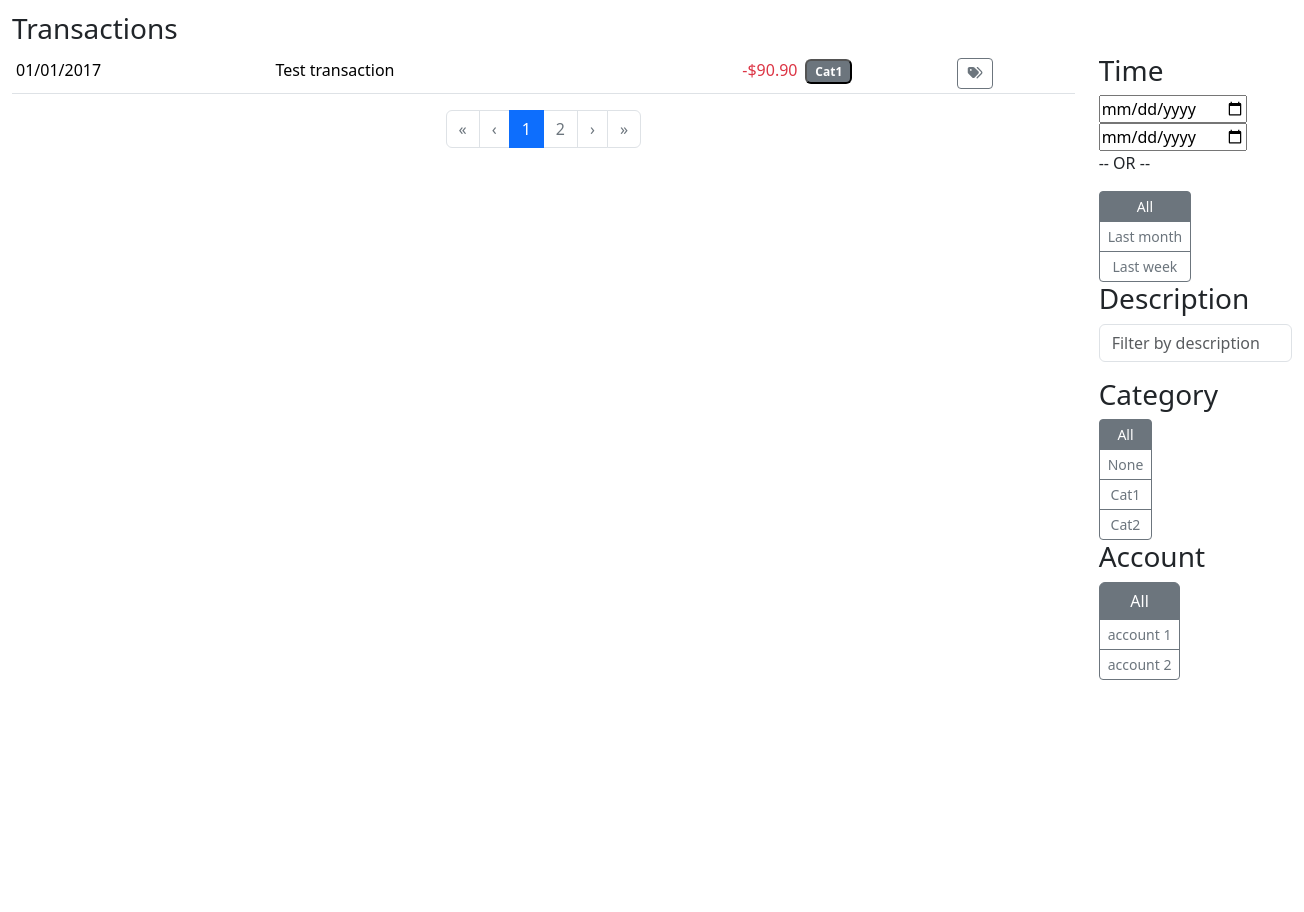
Test: should close dropdown on blur without saving
Click the button "Cat1" in the row of "01/01/2017".
click(829, 72)  # box x1=806 y1=59 x2=852 y2=84
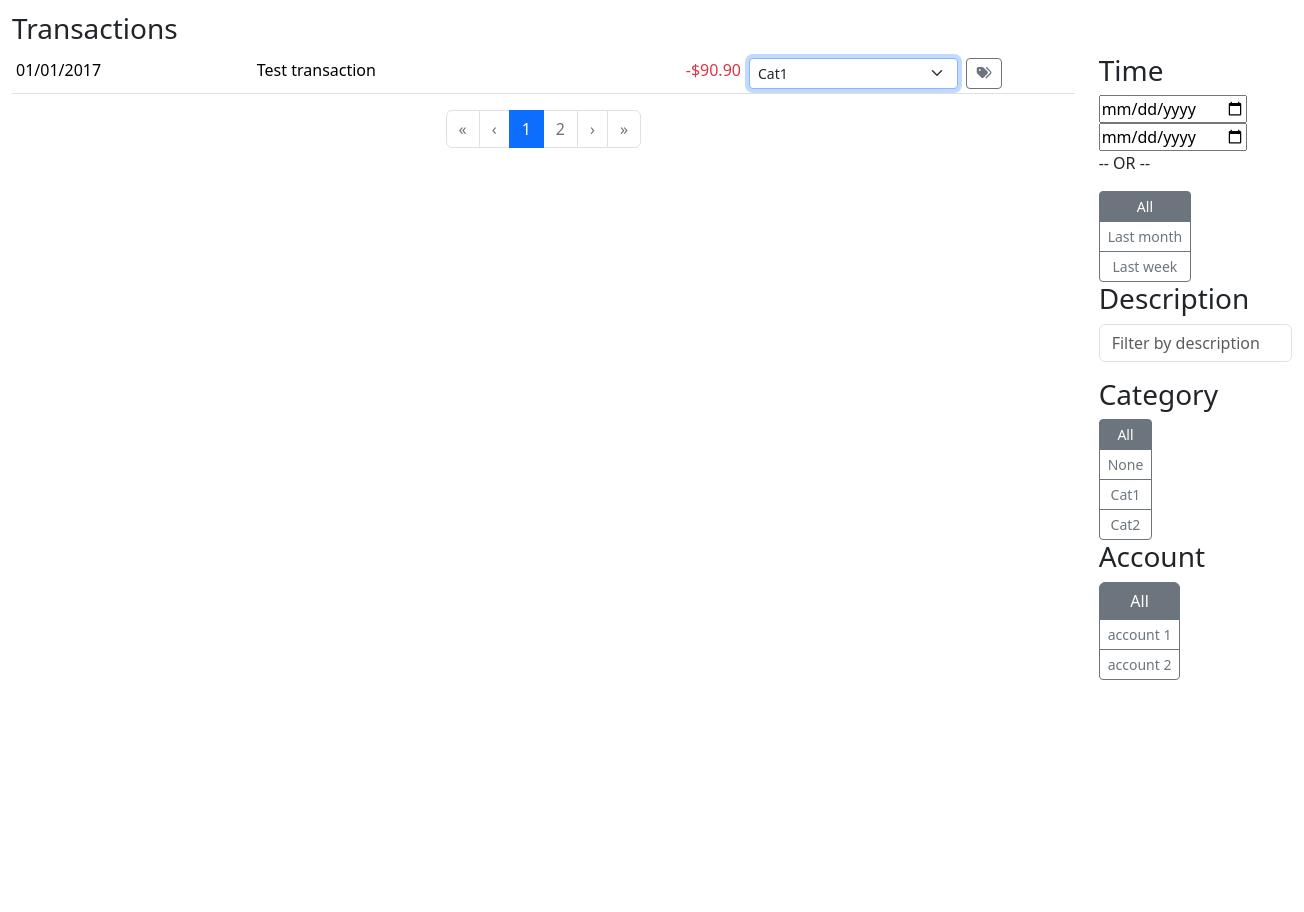
Check: the dropdown is shown, box x1=749 y1=58 x2=958 y2=89
# Click outside / blur
Press Tab
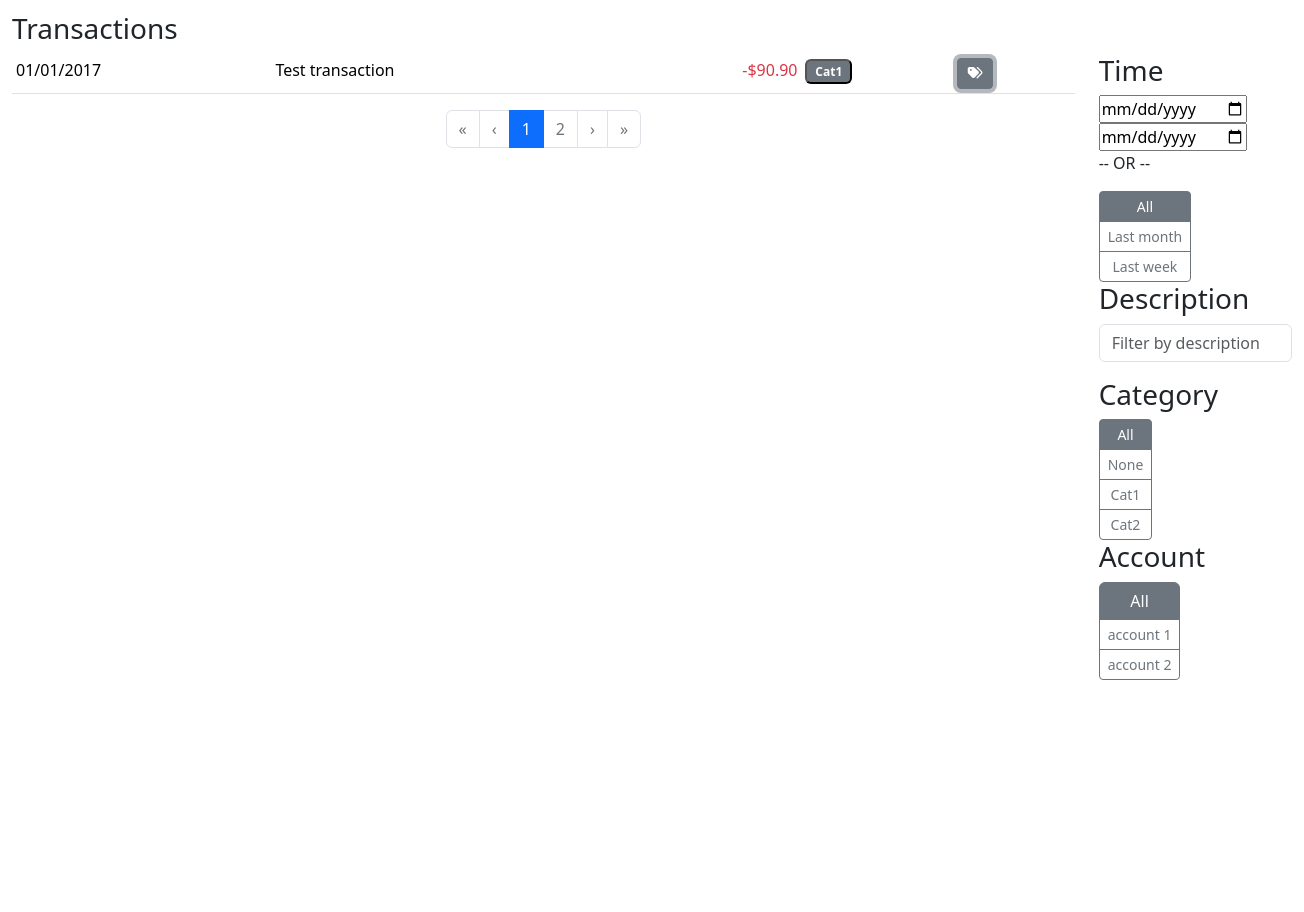
Check: the dropdown is gone
Check: the button "Cat1" in the row of "01/01/2017" is shown, box x1=806 y1=59 x2=852 y2=84
